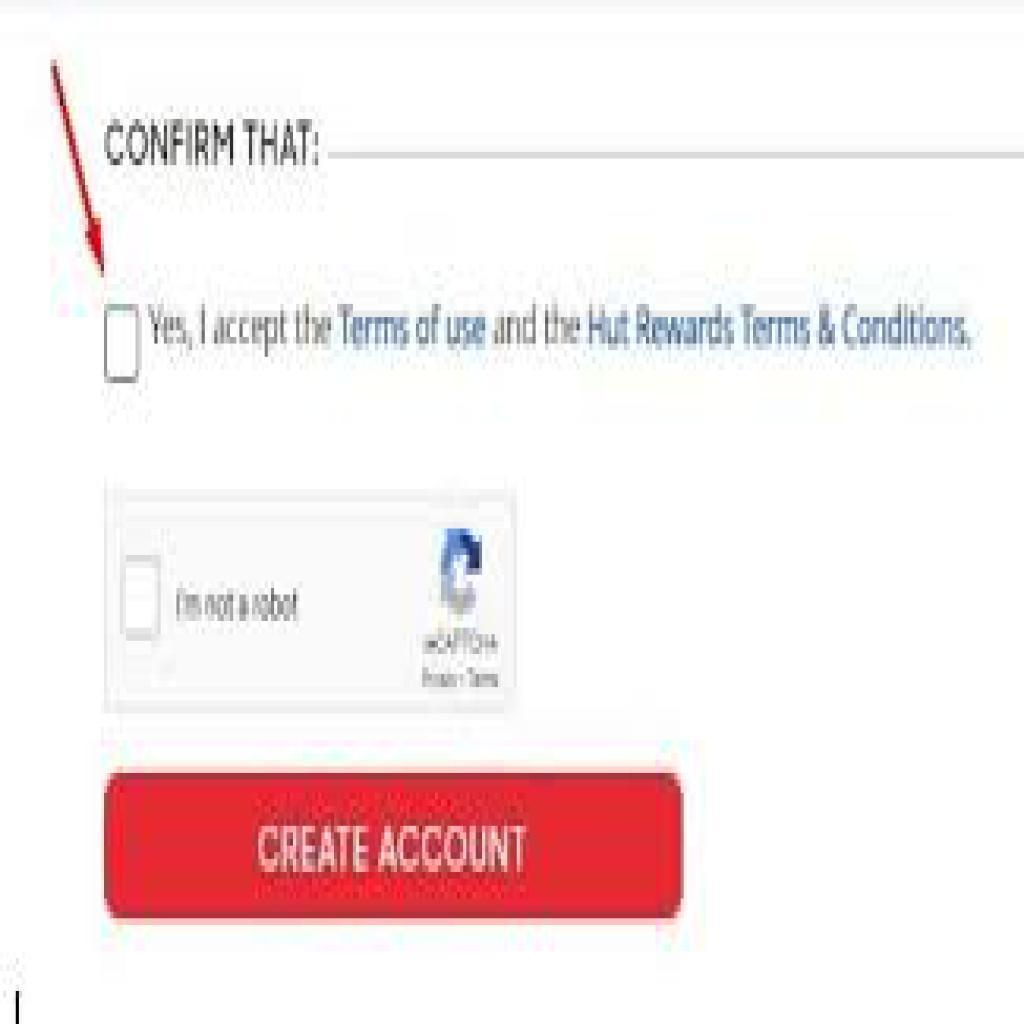button: (107, 771, 683, 916)
checkbox: (104, 307, 144, 384), (120, 563, 163, 631)
